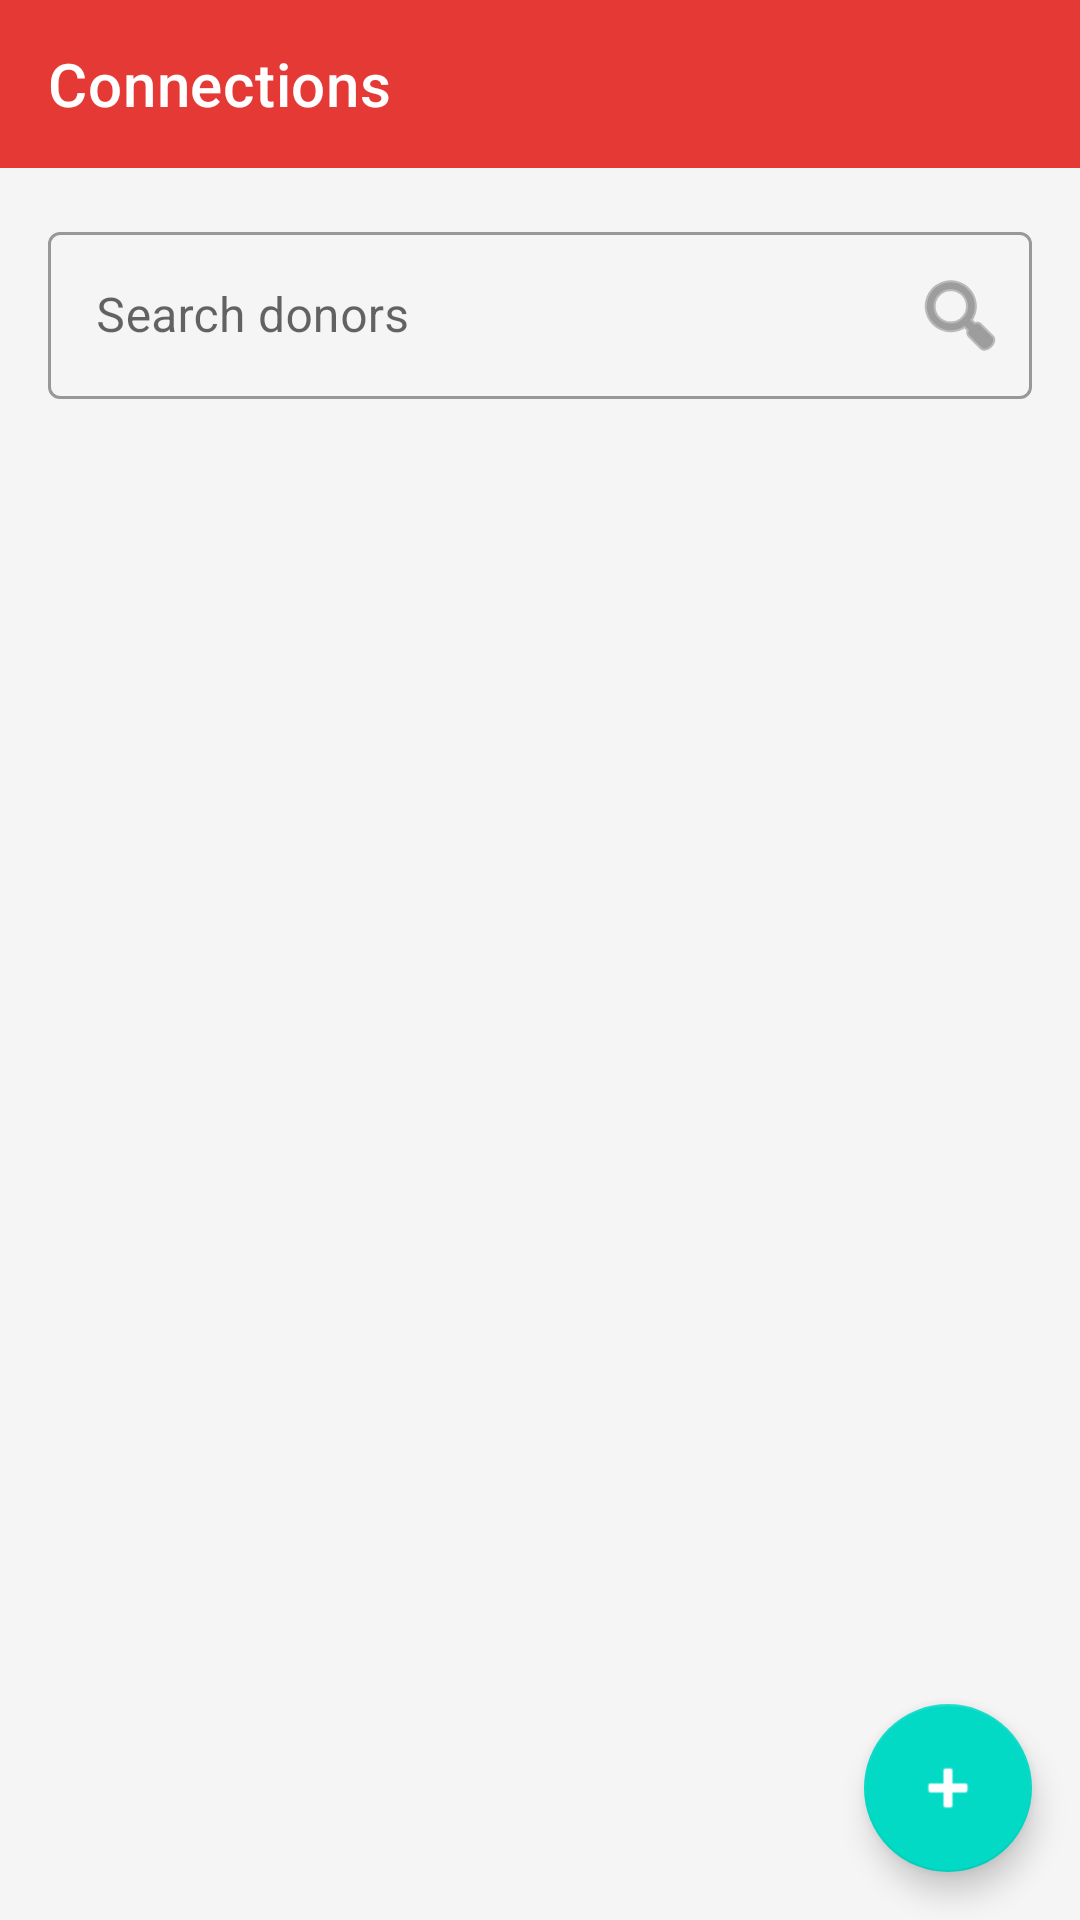

Icons on this 1080*1920 Android screen, each with the point to tap as [x,y]:
Add Connection: [948,1788]
